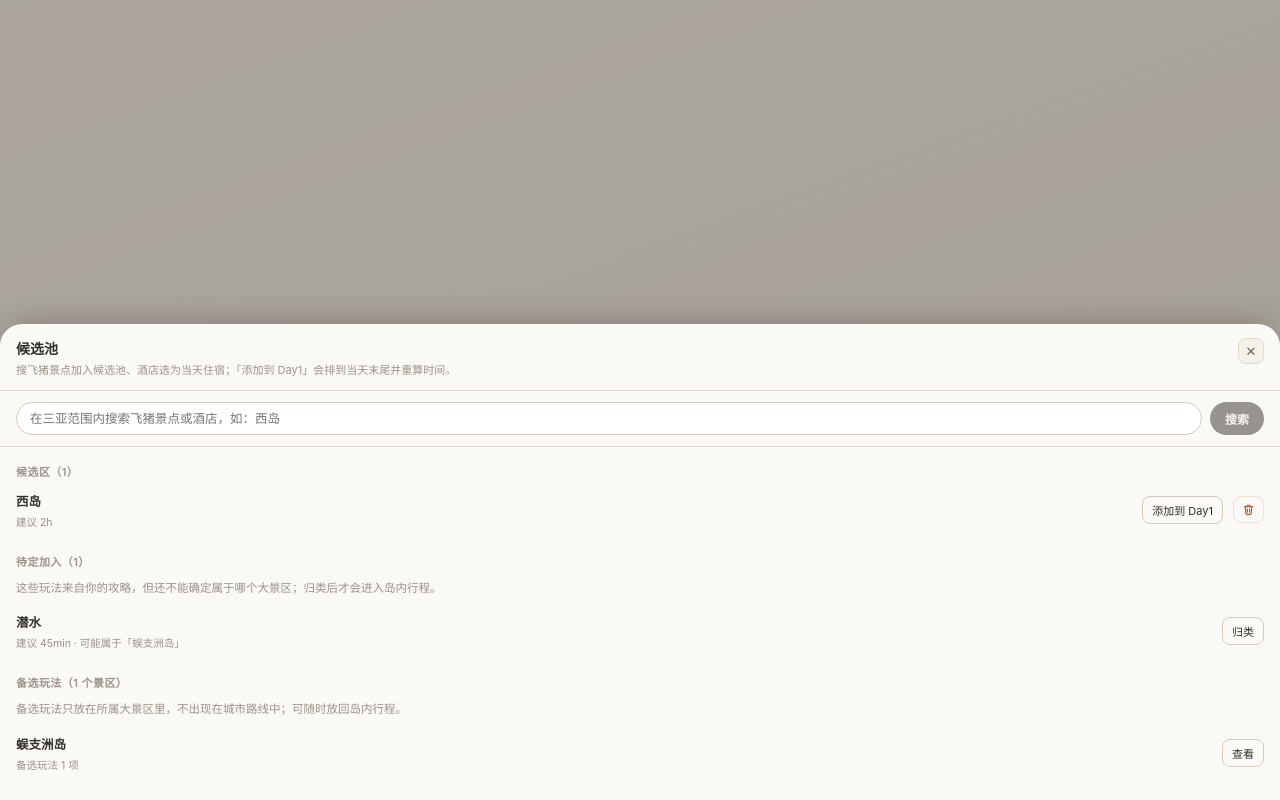
Test: Task #343 开关打开：CandidatePool 三区「建议 X」时长 chip 恢复渲染 › 区三备选玩法展开后恢复 .reserve-meta「建议 1.5h」
Click the button "查看" at x=1243, y=753, box [1222,739,1264,767]
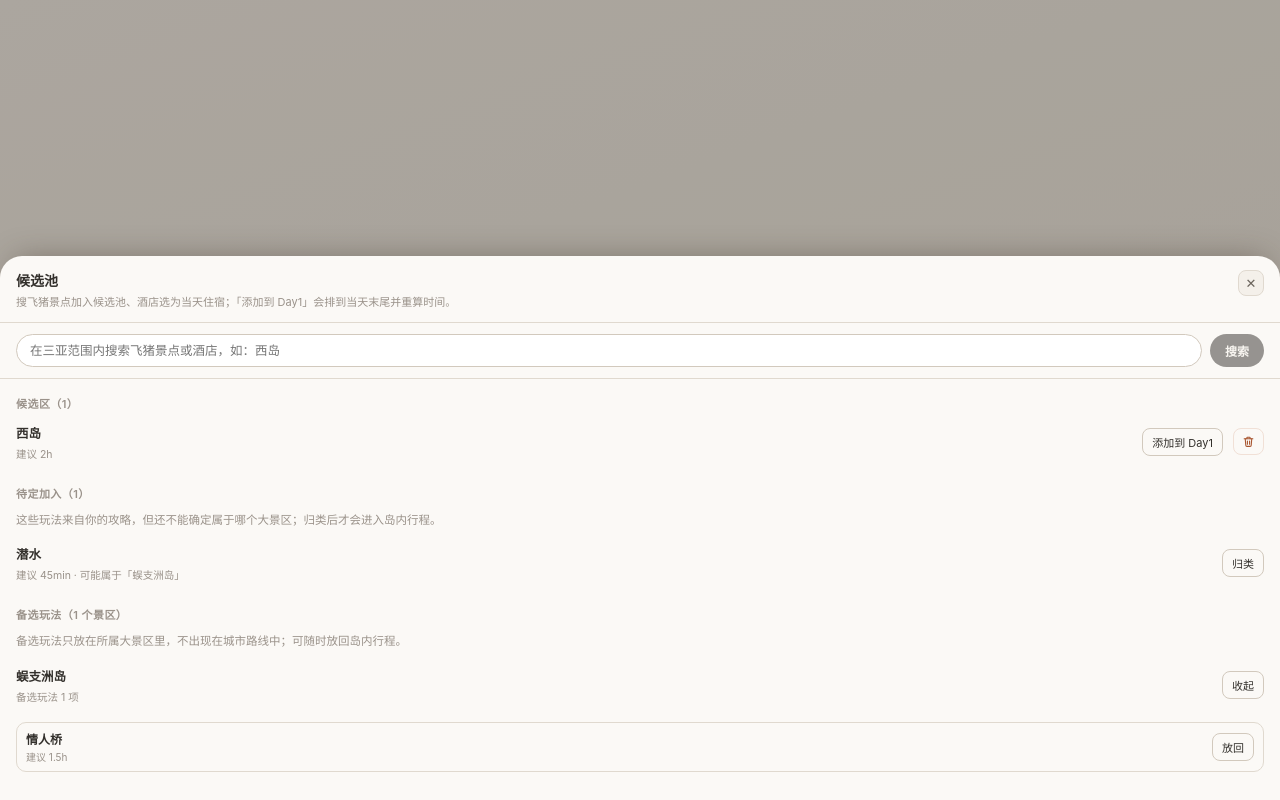
Expected: the text with class "reserve-meta" reads "建议 1.5h", [26,749,68,764]
Expected: the text with class "reserve-name" reads "情人桥", [26,732,62,747]
